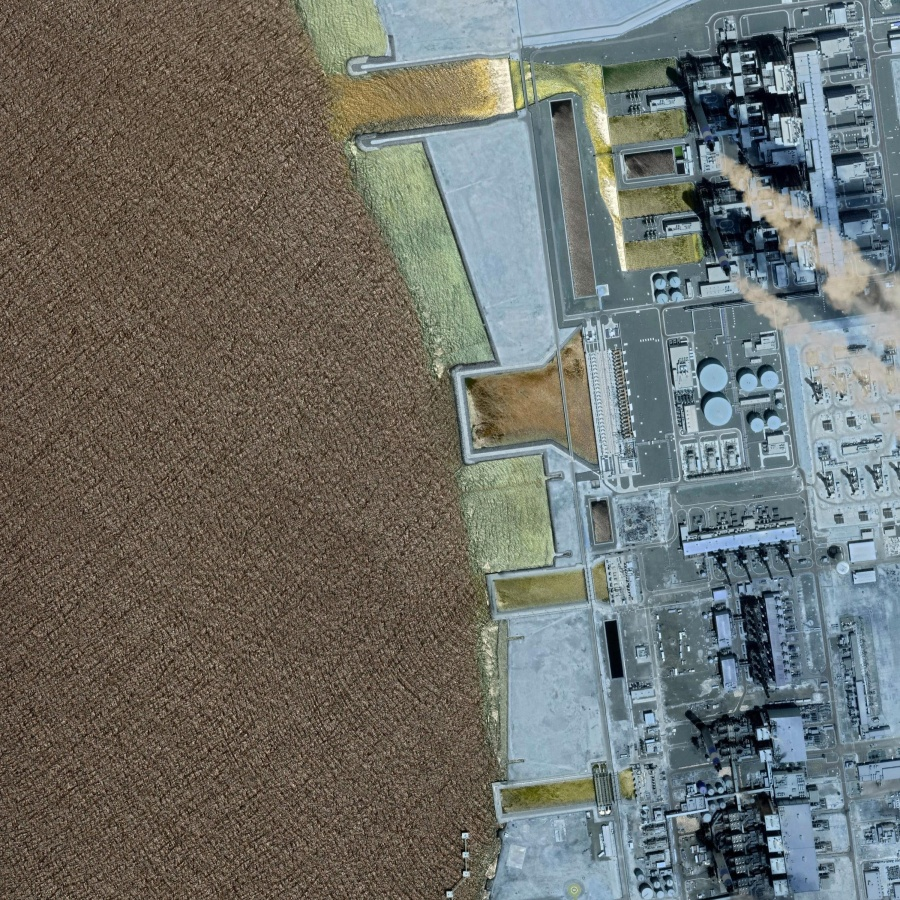PowerPlant: (632, 582, 854, 898)
